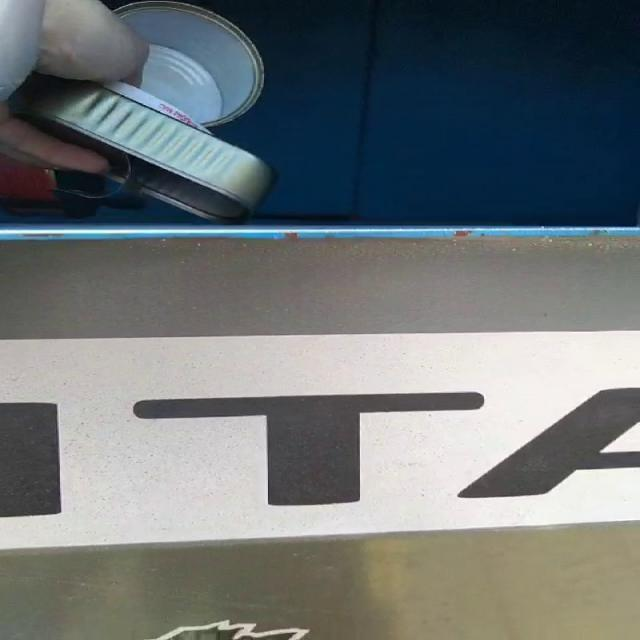Other: (0, 187, 337, 198)
